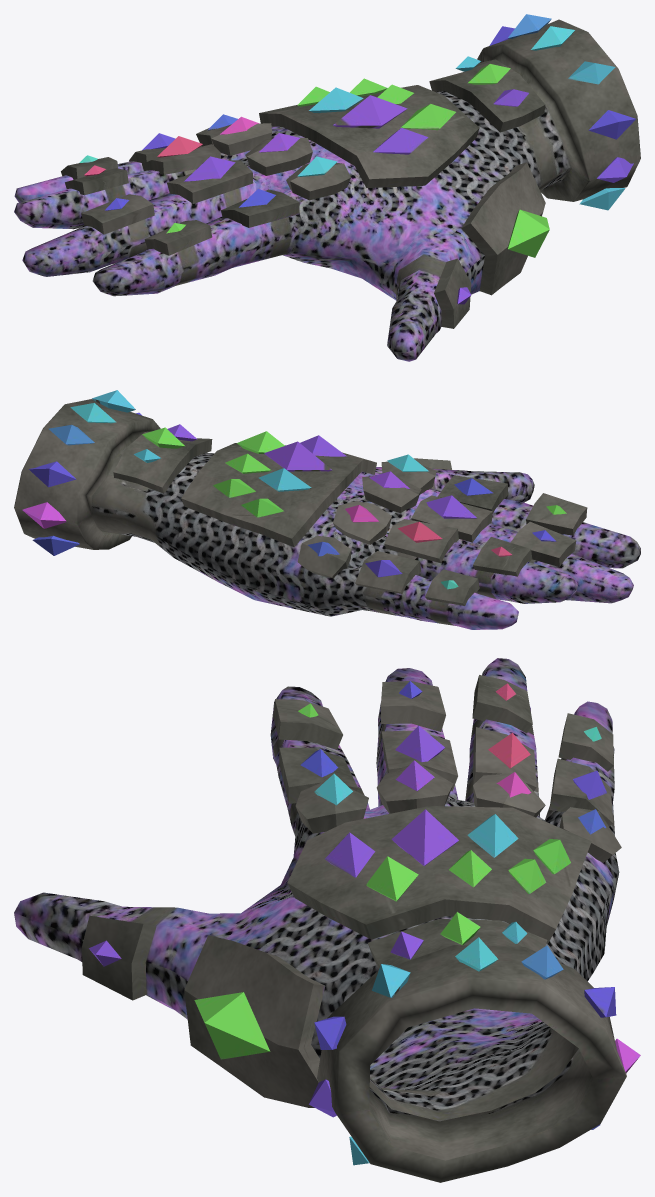
Rendered from ornate_gloves.glb.
The picture shows the model from 3 angles, top to bottom: view 1: azimuth 30°, elevation 25°; view 2: azimuth 150°, elevation 25°; view 3: azimuth 270°, elevation 25°; orthographic projection. The views are drawn at different scales.
Visible parts, largest first — view 1: ornate_gloves_export; view 2: ornate_gloves_export; view 3: ornate_gloves_export.
Part boxes in pixels (x1,y1,x2,y2): ornate_gloves_export: [14, 14, 640, 361]; ornate_gloves_export: [14, 390, 640, 629]; ornate_gloves_export: [14, 658, 640, 1182].
Bounding box in the file's own units: 0.1914 × 0.0543 × 0.1236.
1 material, 1 textured.
